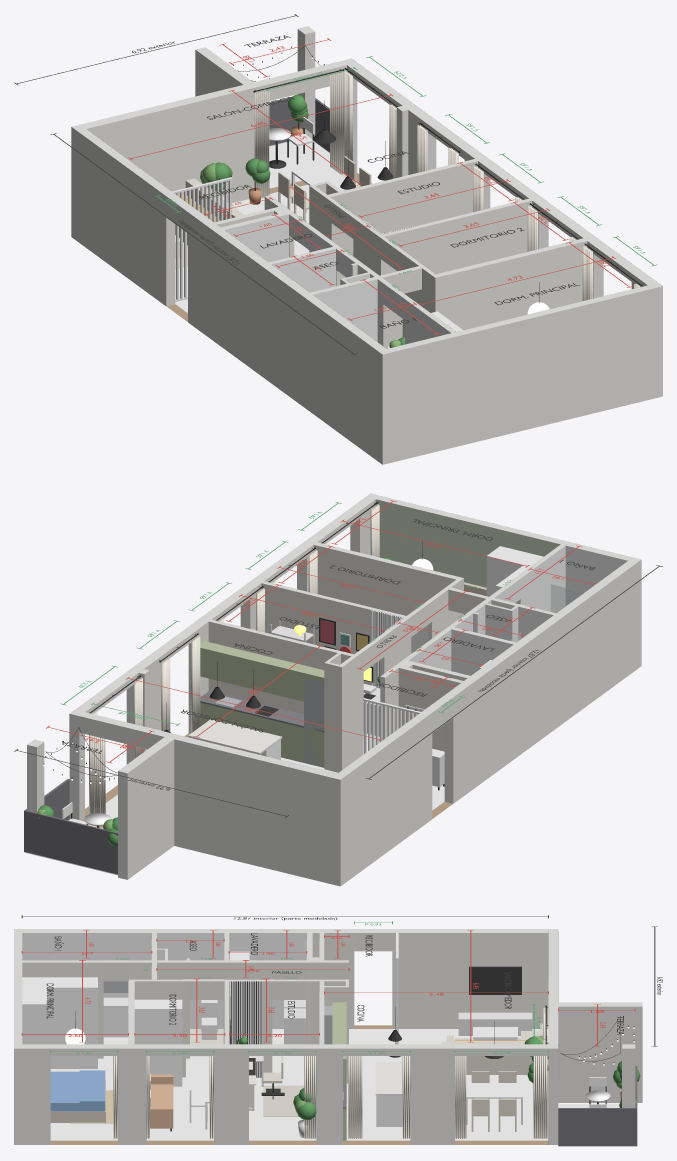
File: original.glb
3 renders of one model, top to bottom at view 1: azimuth 30°, elevation 25°; view 2: azimuth 150°, elevation 25°; view 3: azimuth 270°, elevation 25°, orthographic. The views are drawn at different scales.
Visible parts, largest first — view 1: Pintura_paredes, Muros, Dinteles_antepechos, Cortina_terraza, Cota_lineas_Cota_roja, Separador_entrada, Suelo_terraza_baldosa, Cortina_salon, Barandilla_terraza, Suelo_tarima, Mesa_comedor, Cota_lineas_Cota_negra (+3 smaller); view 2: Pintura_paredes, Muros, Cocina, Barandilla_terraza, Dinteles_antepechos, Cota_lineas_Cota_roja, Isla_cocina, Cortina_cocina, Armario_L_principal, Separador_entrada, Cortina_terraza, Cortina_salon (+4 smaller); view 3: Pintura_paredes, Suelo_tarima, Muros, Armario_L_principal, Barandilla_terraza, Dinteles_antepechos, Armario_dorm2, Cama_principal, Mueble_TV, Cortina_salon, Estudio_listones_madera, Cota_lineas_Cota_roja (+23 smaller).
Boxes of the visible parts, <box> form: Pintura_paredes: <box>71,29,662,464</box>; Muros: <box>72,26,662,354</box>; Dinteles_antepechos: <box>167,61,641,298</box>; Cortina_terraza: <box>254,72,344,198</box>; Cota_lineas_Cota_roja: <box>128,38,632,334</box>; Separador_entrada: <box>172,177,232,301</box>; Suelo_terraza_baldosa: <box>269,141,329,188</box>; Cortina_salon: <box>342,71,396,178</box>; Barandilla_terraza: <box>269,97,329,152</box>; Suelo_tarima: <box>175,182,389,348</box>; Mesa_comedor: <box>291,163,357,203</box>; Cota_lineas_Cota_negra: <box>14,14,357,355</box>; Pintura_paredes: <box>27,496,641,886</box>; Muros: <box>27,493,640,779</box>; Cocina: <box>200,641,324,767</box>; Barandilla_terraza: <box>24,779,117,874</box>; Dinteles_antepechos: <box>75,508,520,736</box>; Cota_lineas_Cota_roja: <box>46,500,594,763</box>; Isla_cocina: <box>188,719,282,759</box>; Cortina_cocina: <box>161,635,200,738</box>; Armario_L_principal: <box>486,546,543,596</box>; Separador_entrada: <box>363,698,421,753</box>; Cortina_terraza: <box>92,736,105,813</box>; Cortina_salon: <box>89,677,142,814</box>; Pintura_paredes: <box>14,929,642,1144</box>; Suelo_tarima: <box>50,1029,548,1140</box>; Muros: <box>14,929,642,1048</box>; Armario_L_principal: <box>22,977,97,1068</box>; Barandilla_terraza: <box>558,1066,637,1145</box>; Dinteles_antepechos: <box>50,929,558,1048</box>; Armario_dorm2: <box>134,999,182,1086</box>; Cama_principal: <box>50,1070,105,1122</box>; Mueble_TV: <box>458,966,532,1035</box>; Cortina_salon: <box>455,1056,547,1138</box>; Estudio_listones_madera: <box>229,981,262,1077</box>; Cota_lineas_Cota_roja: <box>21,930,635,1046</box>.
Bounding box in the file's own units: 8.07 × 2.69 × 15.87.
